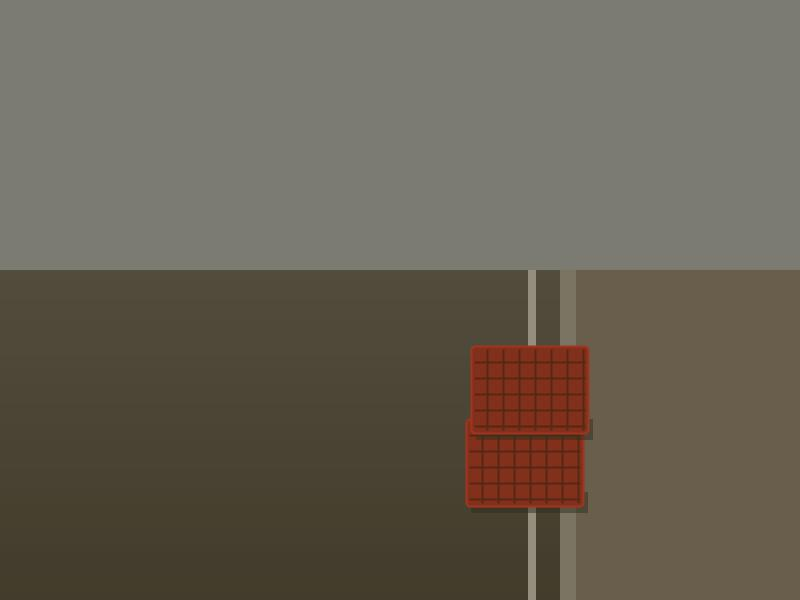ROAD_OBSTACLE: (466, 346, 583, 506)
